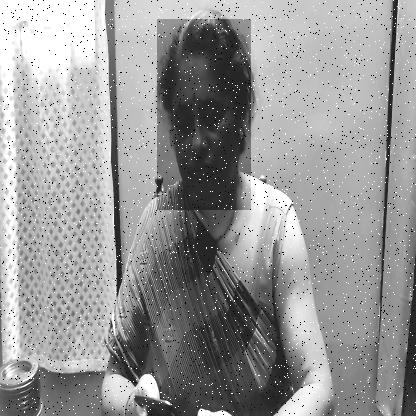Distracted: (157, 19, 251, 210)
